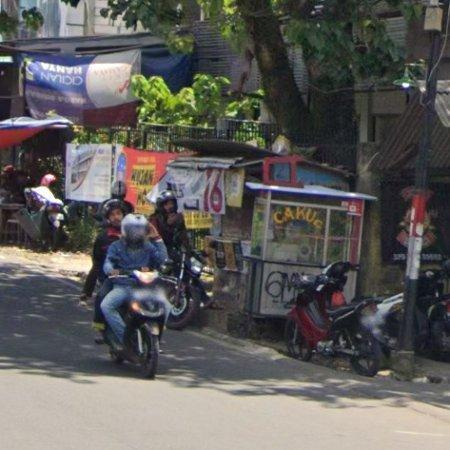motorcycles: (286, 262, 383, 378), (106, 271, 168, 378)
